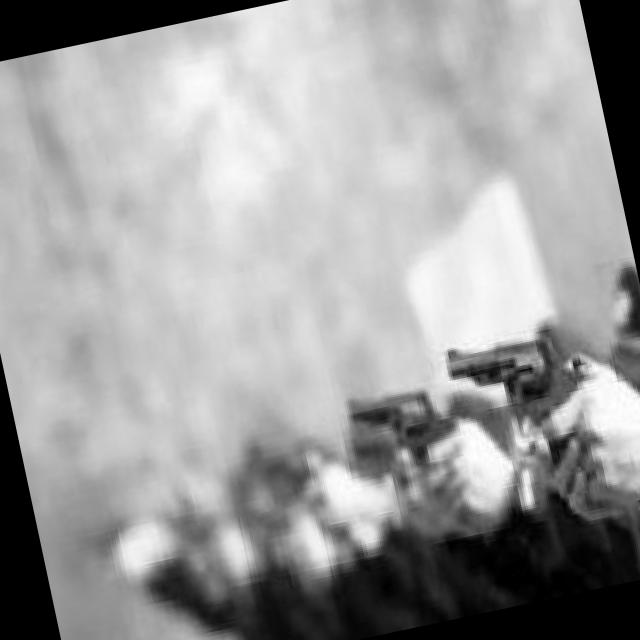Guns: (433, 296, 640, 483), (334, 364, 461, 486)
